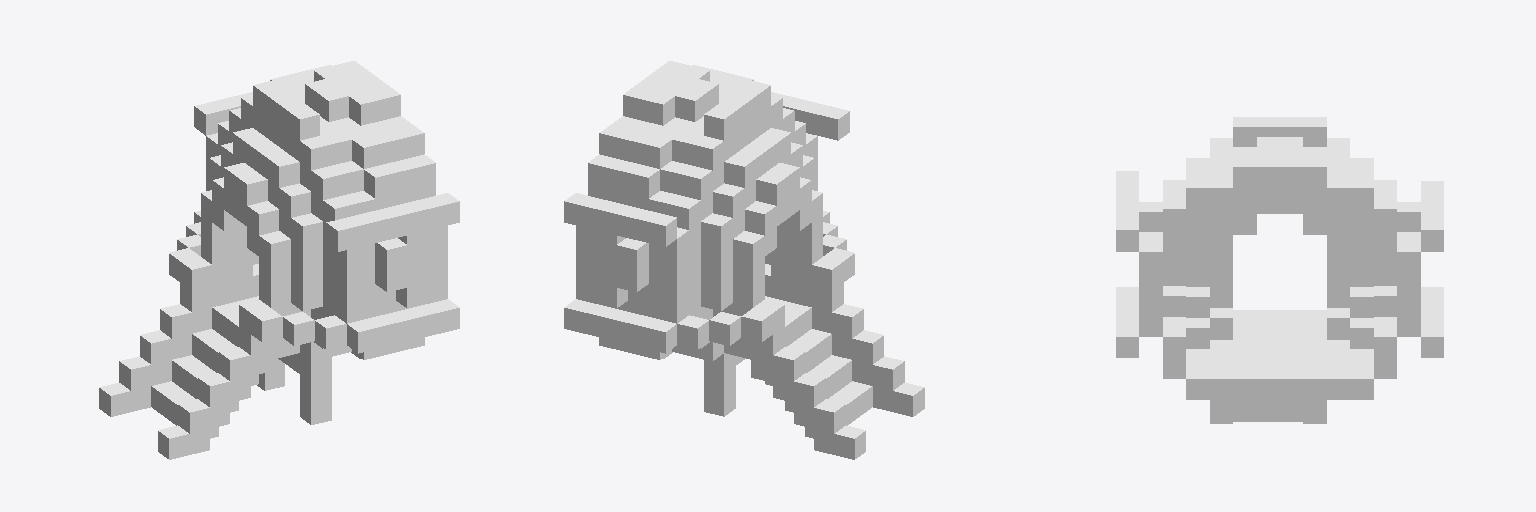
File: tunnelKit_tunnelDoor_01_v1.obj
3 views of the same model, side by side, from view 1: azimuth 30°, elevation 25°; view 2: azimuth 150°, elevation 25°; view 3: azimuth 270°, elevation 25° (orthographic).
Parts seen in each view (by area): view 1: object 1; view 2: object 1; view 3: object 1.
Part boxes in pixels (x1,y1,x2,y2): object 1: (99,61,459,459); object 1: (564,61,924,459); object 1: (1116,117,1443,423).
Bounding box in the file's own units: 1.2 × 1.4 × 1.4.